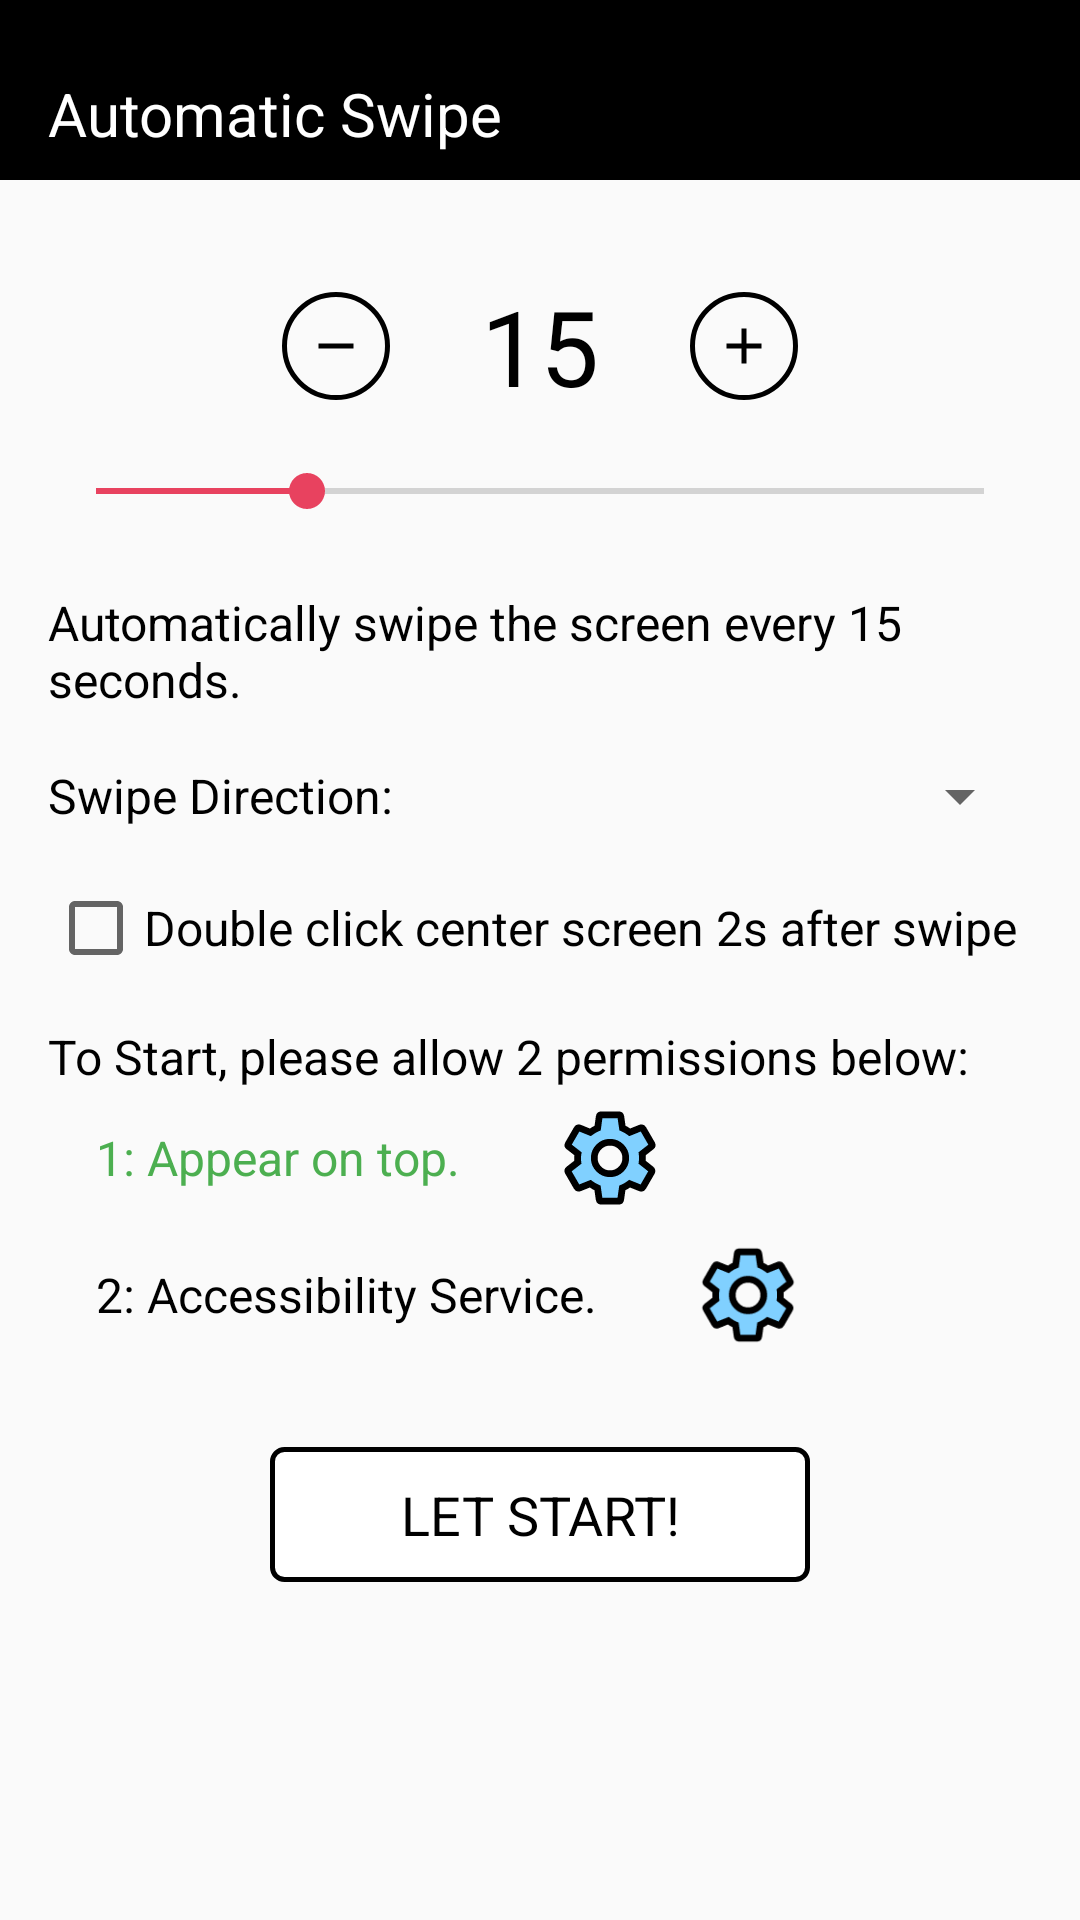

Named icons in this screenshot (1080*1920) and their bounding boxes, box(x1, y1, x2, y2):
gear: box(564, 1111, 656, 1205), box(702, 1248, 794, 1342)
minus: box(282, 292, 390, 400)
plus: box(690, 292, 798, 400)
